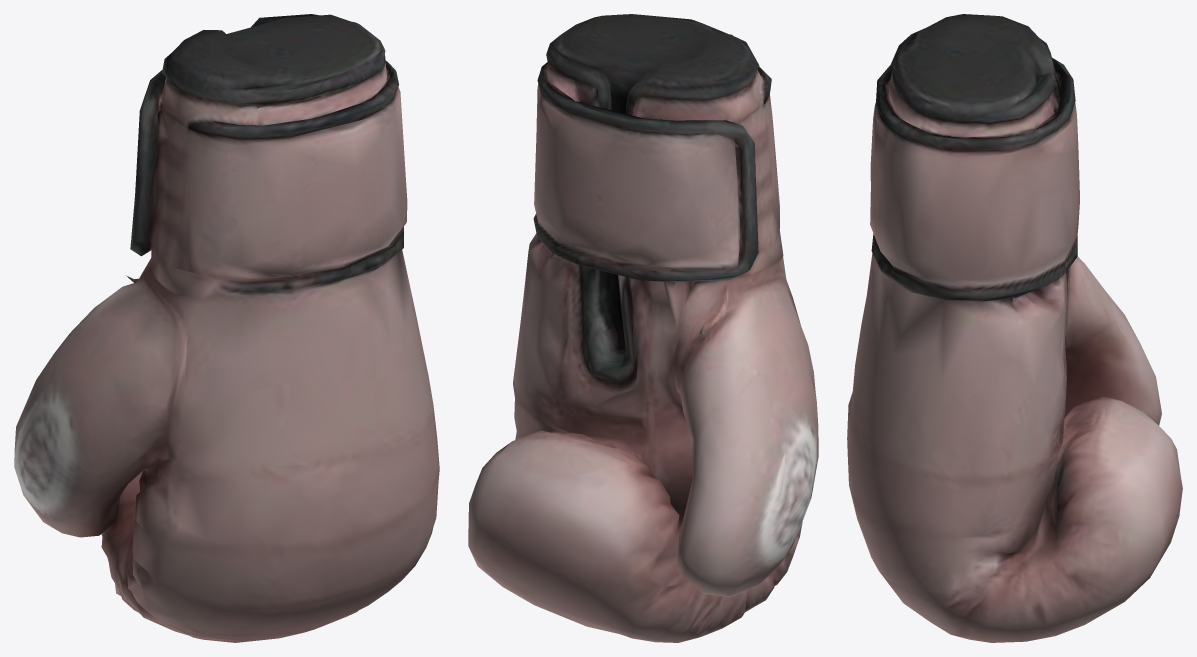
Rendered from glove.glb.
3 renders of one model, left to right at view 1: azimuth 30°, elevation 25°; view 2: azimuth 150°, elevation 25°; view 3: azimuth 270°, elevation 25°, orthographic. The views are drawn at different scales.
Visible parts, largest first — view 1: glove; view 2: glove; view 3: glove.
Boxes of the visible parts, x1=… form: glove: x1=14, y1=14, x2=439, y2=642; glove: x1=468, y1=14, x2=818, y2=642; glove: x1=847, y1=14, x2=1182, y2=642.
Size of the model in its own units: 0.6049 by 1 by 0.5382.
1 material, 1 textured.
